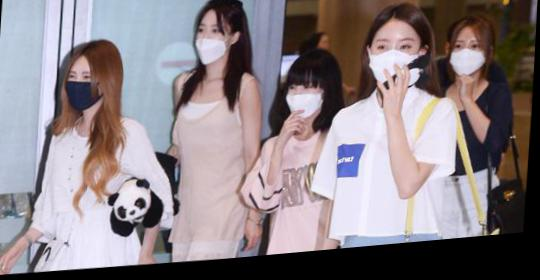OK: (365, 38, 426, 100), (284, 78, 333, 128), (59, 66, 105, 113), (447, 40, 491, 86)
WRONG: (190, 25, 234, 71)
